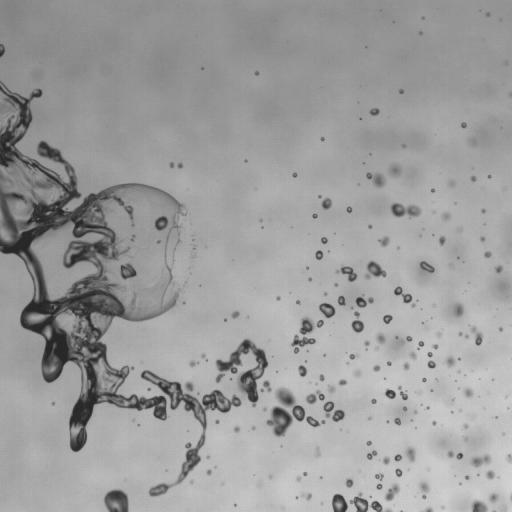droplet: (103, 488, 128, 511), (322, 400, 345, 422), (364, 260, 386, 279), (335, 264, 357, 282), (383, 482, 400, 501), (366, 172, 386, 188), (350, 311, 364, 333), (469, 453, 491, 467), (304, 389, 324, 404), (318, 302, 335, 319), (355, 294, 374, 307), (442, 355, 461, 368), (418, 481, 430, 499), (470, 499, 488, 511), (388, 162, 401, 178), (405, 445, 416, 462), (419, 261, 434, 273), (453, 302, 464, 317), (321, 197, 332, 210), (383, 388, 396, 399), (377, 236, 389, 247), (485, 470, 499, 479), (366, 449, 377, 460), (8, 82, 19, 93), (27, 99, 38, 110), (14, 140, 25, 151), (28, 149, 39, 160), (392, 153, 403, 164), (40, 156, 51, 167), (52, 162, 63, 173), (378, 165, 389, 176), (78, 186, 89, 197), (65, 200, 76, 211), (1, 231, 12, 242), (178, 242, 189, 253), (486, 256, 497, 267), (354, 264, 365, 275), (310, 310, 321, 321), (379, 323, 390, 334), (35, 336, 46, 347), (228, 339, 239, 350), (352, 342, 363, 353), (358, 350, 369, 361), (294, 352, 305, 363), (109, 358, 120, 369), (63, 360, 74, 371), (262, 368, 273, 379), (128, 369, 139, 380), (459, 377, 470, 388), (118, 385, 129, 396), (421, 392, 432, 403), (294, 394, 305, 405), (303, 404, 314, 415), (205, 408, 216, 419), (313, 409, 324, 420), (381, 477, 392, 488), (486, 479, 497, 490), (342, 489, 353, 500), (374, 491, 385, 502), (382, 314, 393, 324), (463, 387, 473, 398), (444, 397, 455, 407), (298, 365, 307, 377), (379, 456, 391, 465), (441, 211, 451, 221), (488, 492, 498, 502), (337, 295, 346, 306), (427, 359, 436, 369), (327, 384, 336, 394), (344, 477, 353, 487), (467, 138, 476, 147), (352, 368, 361, 377), (47, 139, 56, 148), (399, 166, 408, 175), (382, 172, 391, 181), (476, 172, 485, 181), (60, 174, 69, 183), (400, 198, 409, 207), (314, 204, 323, 213), (447, 217, 456, 226), (345, 296, 354, 305), (28, 330, 37, 339), (384, 333, 393, 342), (422, 343, 431, 352), (393, 359, 402, 368), (210, 366, 219, 375), (269, 381, 278, 390), (153, 387, 162, 396), (143, 390, 152, 399), (223, 390, 232, 399), (455, 390, 464, 399), (272, 398, 281, 407), (314, 399, 323, 408), (63, 408, 72, 417), (263, 410, 272, 419), (84, 421, 93, 430), (475, 448, 484, 457), (388, 459, 397, 468), (396, 459, 405, 468), (479, 463, 488, 472), (467, 465, 476, 474), (480, 495, 489, 504), (380, 499, 389, 508), (419, 499, 428, 508), (484, 500, 493, 509), (315, 250, 323, 260), (438, 235, 445, 246), (314, 446, 321, 457), (447, 179, 456, 187), (494, 265, 503, 273), (338, 378, 347, 386), (374, 473, 383, 481), (369, 108, 379, 115), (363, 340, 370, 350), (345, 505, 356, 511), (231, 310, 239, 318), (402, 362, 410, 370), (394, 417, 402, 425), (395, 468, 402, 477), (349, 353, 359, 359), (505, 453, 511, 463), (435, 330, 442, 338), (372, 364, 380, 371), (233, 425, 240, 433), (447, 450, 454, 458), (456, 452, 463, 460), (394, 454, 402, 461), (499, 504, 507, 511), (414, 389, 423, 395), (484, 251, 491, 258), (30, 116, 37, 123), (27, 123, 34, 130), (60, 151, 67, 158), (436, 207, 443, 214), (385, 208, 392, 215), (402, 212, 409, 219), (434, 212, 441, 219), (386, 241, 393, 248), (318, 243, 325, 250), (9, 252, 16, 259), (305, 269, 312, 276), (23, 297, 30, 304), (331, 300, 338, 307), (448, 305, 455, 312), (462, 305, 469, 312), (317, 312, 324, 319), (112, 315, 119, 322), (310, 317, 317, 324), (476, 325, 483, 332), (462, 326, 469, 333), (468, 334, 475, 341), (98, 336, 105, 343), (369, 338, 376, 345), (411, 339, 418, 346), (255, 342, 262, 349), (378, 342, 385, 349), (230, 344, 237, 351), (298, 345, 305, 352), (104, 349, 111, 356), (264, 353, 271, 360), (192, 354, 199, 361), (222, 355, 229, 362), (406, 357, 413, 364), (378, 360, 385, 367), (453, 360, 460, 367), (292, 368, 299, 375), (224, 369, 231, 376), (167, 375, 174, 382), (255, 378, 262, 385), (331, 379, 338, 386), (144, 380, 151, 387), (467, 382, 474, 389), (214, 383, 221, 390), (335, 384, 342, 391), (180, 386, 187, 393), (308, 387, 315, 394), (471, 387, 478, 394), (189, 389, 196, 396), (406, 390, 413, 397), (394, 393, 401, 400), (70, 396, 77, 403), (92, 403, 99, 410), (417, 406, 424, 413), (405, 408, 412, 415), (325, 416, 332, 423), (266, 424, 273, 431), (462, 428, 469, 435), (85, 435, 92, 442), (276, 435, 283, 442), (63, 439, 70, 446), (409, 441, 416, 448), (80, 445, 87, 452), (365, 445, 372, 452), (196, 449, 203, 456), (413, 451, 420, 458), (489, 453, 496, 460), (401, 454, 408, 461), (394, 460, 401, 467), (192, 464, 199, 471), (174, 466, 181, 473), (187, 470, 194, 477), (392, 475, 399, 482), (163, 477, 170, 484), (427, 481, 434, 488), (112, 483, 119, 490), (121, 486, 128, 493), (380, 487, 387, 494), (486, 487, 493, 494), (392, 492, 399, 499), (298, 496, 305, 503), (506, 396, 511, 405), (126, 506, 135, 511), (176, 162, 183, 168), (470, 175, 476, 182), (346, 206, 352, 213), (321, 237, 327, 244), (448, 262, 454, 269), (318, 374, 324, 381), (461, 423, 468, 429), (295, 475, 301, 482), (456, 227, 462, 233), (462, 436, 468, 442), (206, 469, 212, 475), (376, 483, 382, 489), (169, 161, 174, 168), (391, 506, 398, 511), (461, 122, 466, 128), (312, 213, 318, 218), (480, 236, 485, 242), (432, 344, 438, 349), (427, 352, 433, 357), (371, 398, 376, 404), (464, 474, 470, 479), (101, 507, 108, 511), (231, 507, 238, 511), (367, 507, 374, 511), (432, 507, 439, 511), (465, 507, 472, 511), (254, 70, 259, 75), (292, 172, 297, 177), (430, 188, 435, 193), (481, 208, 486, 213), (498, 326, 503, 331), (464, 334, 469, 339), (402, 406, 407, 411), (366, 440, 371, 445), (480, 10, 485, 15), (2, 51, 7, 56), (400, 84, 405, 89), (40, 92, 45, 97), (24, 93, 29, 98), (32, 96, 37, 101), (372, 103, 377, 108), (372, 114, 377, 119), (461, 117, 466, 122), (465, 123, 470, 128), (34, 139, 39, 144), (166, 157, 171, 162), (181, 160, 186, 165), (173, 161, 178, 166), (370, 170, 375, 175), (470, 170, 475, 175), (361, 173, 366, 178), (475, 176, 480, 181), (122, 178, 127, 183), (137, 178, 142, 183), (367, 178, 372, 183), (466, 178, 471, 183), (118, 179, 123, 184), (142, 179, 147, 184), (146, 180, 151, 185), (155, 183, 160, 188), (162, 186, 167, 191), (93, 189, 98, 194), (170, 191, 175, 196), (328, 194, 333, 199), (174, 195, 179, 200), (177, 198, 182, 203), (317, 198, 322, 203), (394, 198, 399, 203), (327, 206, 332, 211), (441, 207, 446, 212), (410, 215, 415, 220), (178, 234, 183, 239), (378, 234, 383, 239), (475, 237, 480, 242), (434, 239, 439, 244), (443, 240, 448, 245), (375, 241, 380, 246), (484, 246, 489, 251), (174, 249, 179, 254), (321, 249, 326, 254), (479, 250, 484, 255), (490, 250, 495, 255), (483, 256, 488, 261), (486, 256, 491, 261), (364, 259, 369, 264), (494, 261, 499, 266), (336, 264, 341, 269), (415, 264, 420, 269), (380, 265, 385, 270), (490, 268, 495, 273), (170, 269, 175, 274), (422, 269, 427, 274), (499, 269, 504, 274), (343, 273, 348, 278), (370, 274, 375, 279), (377, 274, 382, 279), (352, 279, 357, 284), (172, 286, 177, 291), (389, 287, 394, 292), (401, 289, 406, 294), (356, 292, 361, 297), (397, 294, 402, 299), (362, 295, 367, 300), (410, 298, 415, 303), (351, 300, 356, 305), (365, 302, 370, 307), (354, 305, 359, 310), (231, 306, 236, 311), (16, 310, 21, 315), (387, 310, 392, 315), (160, 312, 165, 317), (226, 314, 231, 319), (329, 315, 334, 320), (351, 315, 356, 320), (357, 315, 362, 320), (152, 316, 157, 321), (234, 316, 239, 321), (15, 317, 20, 322), (145, 318, 150, 323), (142, 319, 147, 324), (130, 320, 135, 325), (136, 320, 141, 325), (470, 320, 475, 325), (362, 321, 367, 326), (347, 325, 352, 330), (360, 329, 365, 334), (441, 330, 446, 335), (297, 334, 302, 339), (459, 335, 464, 340), (481, 336, 486, 341), (288, 337, 293, 342), (480, 340, 485, 345), (304, 343, 309, 348), (360, 343, 365, 348), (429, 347, 434, 352), (347, 349, 352, 354), (414, 349, 419, 354), (452, 354, 457, 359), (429, 355, 434, 360), (425, 356, 430, 361), (199, 358, 204, 363), (348, 358, 353, 363), (184, 359, 189, 364), (399, 360, 404, 365), (184, 362, 189, 367), (302, 362, 307, 367), (369, 362, 374, 367), (398, 364, 403, 369), (408, 364, 413, 369), (263, 366, 268, 371), (151, 368, 156, 373), (136, 370, 141, 375), (305, 370, 310, 375), (374, 370, 379, 375), (338, 374, 343, 379), (343, 375, 348, 380), (124, 376, 129, 381), (314, 376, 319, 381), (175, 377, 180, 382), (40, 378, 45, 383), (53, 378, 58, 383), (455, 381, 460, 386), (268, 382, 273, 387), (340, 384, 345, 389), (400, 386, 405, 391), (381, 387, 386, 392), (115, 389, 120, 394), (206, 389, 211, 394), (394, 389, 399, 394), (256, 390, 261, 395), (124, 392, 129, 397), (472, 392, 477, 397), (136, 393, 141, 398), (383, 395, 388, 400), (464, 396, 469, 401), (197, 397, 202, 402), (323, 397, 328, 402), (255, 399, 260, 404), (320, 399, 325, 404), (179, 400, 184, 405), (247, 400, 252, 405), (110, 403, 115, 408), (230, 404, 235, 409), (332, 405, 337, 410), (132, 407, 137, 412), (188, 409, 193, 414), (225, 410, 230, 415), (304, 411, 309, 416), (410, 413, 415, 418), (342, 415, 347, 420), (154, 417, 159, 422), (316, 417, 321, 422), (399, 417, 404, 422), (301, 418, 306, 423), (337, 419, 342, 424), (389, 419, 394, 424), (466, 420, 471, 425), (318, 423, 323, 428), (458, 423, 463, 428), (197, 424, 202, 429), (246, 424, 251, 429), (307, 424, 312, 429), (228, 425, 233, 430), (314, 425, 319, 430), (238, 428, 243, 433), (232, 431, 237, 436), (203, 438, 208, 443), (182, 439, 187, 444), (190, 443, 195, 448), (66, 446, 71, 451), (182, 447, 187, 452), (310, 448, 315, 453), (319, 448, 324, 453), (442, 450, 447, 455), (452, 450, 457, 455), (181, 456, 186, 461), (389, 456, 394, 461), (505, 461, 510, 466), (208, 464, 213, 469), (210, 468, 215, 473), (493, 470, 498, 475), (391, 472, 396, 477), (346, 473, 351, 478), (205, 474, 210, 479), (291, 474, 296, 479), (491, 476, 496, 481), (460, 477, 465, 482), (374, 478, 379, 483), (352, 479, 357, 484), (152, 481, 157, 486), (144, 486, 149, 491), (166, 487, 171, 492), (304, 488, 309, 493), (336, 489, 341, 494), (493, 489, 498, 494), (295, 490, 300, 495), (418, 490, 423, 495), (425, 492, 430, 497), (158, 493, 163, 498), (361, 494, 366, 499), (152, 495, 157, 500), (310, 495, 315, 500), (327, 496, 332, 501), (367, 498, 372, 503), (506, 506, 511, 511), (398, 89, 404, 93), (296, 299, 300, 305), (458, 331, 462, 337), (0, 212, 3, 219), (0, 250, 3, 257), (485, 12, 490, 16), (401, 144, 406, 148), (307, 277, 312, 281), (276, 295, 280, 300), (180, 301, 185, 305), (386, 361, 391, 365), (422, 377, 426, 382), (51, 401, 55, 406), (413, 409, 417, 414), (432, 420, 436, 425), (251, 425, 255, 430), (302, 472, 307, 476), (268, 474, 272, 479), (189, 479, 193, 484), (440, 505, 445, 509), (508, 91, 511, 97), (320, 137, 324, 141), (487, 174, 491, 178), (368, 224, 372, 228), (334, 282, 338, 286), (323, 292, 327, 296), (456, 369, 460, 373), (147, 387, 151, 391), (368, 416, 372, 420), (215, 419, 219, 423), (206, 455, 210, 459), (426, 467, 430, 471), (357, 469, 361, 473), (424, 406, 429, 409), (493, 416, 498, 419), (508, 394, 511, 399), (508, 449, 511, 454), (328, 508, 333, 511), (419, 31, 422, 35), (318, 194, 321, 198), (259, 218, 262, 222), (432, 304, 436, 307), (224, 318, 227, 322), (315, 382, 319, 385), (458, 408, 461, 412), (502, 432, 505, 436), (476, 472, 479, 476), (320, 501, 323, 505), (0, 90, 2, 95), (421, 16, 424, 19), (244, 159, 247, 162), (432, 210, 435, 213), (396, 246, 399, 249), (306, 266, 309, 269), (350, 306, 353, 309), (323, 353, 326, 356), (346, 361, 349, 364), (275, 370, 278, 373), (229, 377, 232, 380), (435, 378, 438, 381), (454, 379, 457, 382), (491, 378, 494, 381), (430, 388, 433, 391), (450, 410, 453, 413), (132, 418, 135, 421), (386, 420, 389, 423), (414, 426, 417, 429), (214, 465, 217, 468), (221, 482, 224, 485), (458, 482, 461, 485), (233, 503, 236, 506), (489, 12, 492, 15), (421, 19, 424, 22), (420, 28, 423, 31), (202, 64, 205, 67), (197, 66, 200, 69), (201, 69, 204, 72), (251, 71, 254, 74), (258, 71, 261, 74), (255, 74, 258, 77), (4, 83, 7, 86), (7, 86, 10, 89), (399, 93, 402, 96), (359, 114, 362, 117), (356, 115, 359, 118), (358, 119, 361, 122), (459, 126, 462, 129), (320, 133, 323, 136), (323, 135, 326, 138), (317, 138, 320, 141), (320, 140, 323, 143), (404, 141, 407, 144), (398, 145, 401, 148), (241, 157, 244, 160), (361, 158, 364, 161), (247, 159, 250, 162), (244, 162, 247, 165), (166, 163, 169, 166), (360, 163, 363, 166), (179, 167, 182, 170), (486, 171, 489, 174), (296, 172, 299, 175), (490, 173, 493, 176), (484, 174, 487, 177), (291, 176, 294, 179), (473, 180, 476, 183), (153, 184, 156, 187), (430, 185, 433, 188), (427, 188, 430, 191), (434, 188, 437, 191), (317, 191, 320, 194), (429, 191, 432, 194), (432, 191, 435, 194), (314, 194, 317, 197), (483, 206, 486, 209), (351, 208, 354, 211), (313, 210, 316, 213), (478, 210, 481, 213), (484, 210, 487, 213), (345, 211, 348, 214), (349, 211, 352, 214), (186, 212, 189, 215), (309, 212, 312, 215), (309, 215, 312, 218), (314, 217, 317, 220), (368, 221, 371, 224), (177, 222, 180, 225), (260, 222, 263, 225), (364, 224, 367, 227), (371, 224, 374, 227), (263, 225, 266, 228), (431, 230, 434, 233), (428, 233, 431, 236), (480, 233, 483, 236), (320, 234, 323, 237), (192, 235, 195, 238), (325, 235, 328, 238), (484, 236, 487, 239), (188, 237, 191, 240), (191, 240, 194, 243), (326, 240, 329, 243), (178, 241, 181, 244), (190, 244, 193, 247), (175, 246, 178, 249), (399, 246, 402, 249), (192, 249, 195, 252), (312, 253, 315, 256), (457, 253, 460, 256), (173, 256, 176, 259), (453, 256, 456, 259), (459, 256, 462, 259), (192, 257, 195, 260), (320, 257, 323, 260), (419, 258, 422, 261), (456, 258, 459, 261), (173, 260, 176, 263), (427, 261, 430, 264), (343, 263, 346, 266), (349, 264, 352, 267), (302, 266, 305, 269), (308, 266, 311, 269), (188, 268, 191, 271), (433, 269, 436, 272), (25, 270, 28, 273), (28, 276, 31, 279), (311, 276, 314, 279), (183, 277, 186, 280), (305, 279, 308, 282), (310, 279, 313, 282), (184, 283, 187, 286), (179, 284, 182, 287), (332, 285, 335, 288), (183, 287, 186, 290), (325, 289, 328, 292), (320, 291, 323, 294), (178, 292, 181, 295), (339, 292, 342, 295), (279, 295, 282, 298), (273, 297, 276, 300), (184, 299, 187, 302), (277, 299, 280, 302), (344, 299, 347, 302), (372, 299, 375, 302), (175, 300, 178, 303), (292, 300, 295, 303), (299, 300, 302, 303), (295, 303, 298, 306), (383, 312, 386, 315), (426, 316, 429, 319), (220, 318, 223, 321), (421, 318, 424, 321), (389, 319, 392, 322), (223, 321, 226, 324), (382, 321, 385, 324), (423, 321, 426, 324), (419, 323, 422, 326), (320, 325, 323, 328), (502, 327, 505, 330), (496, 329, 499, 332), (455, 332, 458, 335), (409, 333, 412, 336), (461, 333, 464, 336), (314, 337, 317, 340), (395, 338, 398, 341), (432, 341, 435, 344), (476, 344, 479, 347), (366, 345, 369, 348), (296, 351, 299, 354), (320, 351, 323, 354), (325, 353, 328, 356), (424, 353, 427, 356), (320, 355, 323, 358), (459, 355, 462, 358), (388, 358, 391, 361), (383, 361, 386, 364), (123, 362, 126, 365), (390, 362, 393, 365), (424, 362, 427, 365), (194, 363, 197, 366), (343, 363, 346, 366), (127, 364, 130, 367), (385, 364, 388, 367), (434, 364, 437, 367), (428, 367, 431, 370), (277, 370, 280, 373), (460, 372, 463, 375), (384, 374, 387, 377), (422, 374, 425, 377), (323, 375, 326, 378), (380, 377, 383, 380), (419, 377, 422, 380), (451, 377, 454, 380), (433, 379, 436, 382), (422, 381, 425, 384), (432, 387, 435, 390), (320, 390, 323, 393), (430, 391, 433, 394), (407, 395, 410, 398), (450, 395, 453, 398), (369, 396, 372, 399), (374, 396, 377, 399), (453, 398, 456, 401), (49, 399, 52, 402), (403, 399, 406, 402), (368, 400, 371, 403), (375, 400, 378, 403), (417, 401, 420, 404), (54, 402, 57, 405), (372, 403, 375, 406), (423, 404, 426, 407), (406, 406, 409, 409), (451, 407, 454, 410), (424, 408, 427, 411), (427, 408, 430, 411), (448, 412, 451, 415), (494, 412, 497, 415), (366, 413, 369, 416), (395, 414, 398, 417), (364, 416, 367, 419), (496, 417, 499, 420), (434, 418, 437, 421), (367, 419, 370, 422), (136, 420, 139, 423), (218, 420, 221, 423), (332, 420, 335, 423), (383, 420, 386, 423), (409, 421, 412, 424), (252, 422, 255, 425), (429, 422, 432, 425), (435, 422, 438, 425), (139, 423, 142, 426), (215, 423, 218, 426), (394, 423, 397, 426), (254, 426, 257, 429), (249, 429, 252, 432), (366, 437, 369, 440), (370, 439, 373, 442), (363, 442, 366, 445), (461, 451, 464, 454), (393, 452, 396, 455), (209, 455, 212, 458), (364, 456, 367, 459), (303, 468, 306, 471), (392, 468, 395, 471), (306, 471, 309, 474), (401, 472, 404, 475), (464, 472, 467, 475), (300, 473, 303, 476), (316, 475, 319, 478), (322, 475, 325, 478), (319, 478, 322, 481), (343, 479, 346, 482), (296, 481, 299, 484), (455, 481, 458, 484), (373, 483, 376, 486), (457, 484, 460, 487), (146, 492, 149, 495), (354, 493, 357, 496), (292, 495, 295, 498), (421, 498, 424, 501), (235, 501, 238, 504), (230, 503, 233, 506), (235, 505, 238, 508), (397, 507, 400, 510), (401, 507, 404, 510), (201, 67, 204, 69), (359, 117, 362, 119), (362, 162, 365, 164), (454, 202, 456, 205), (419, 234, 421, 237), (192, 238, 194, 241), (457, 256, 459, 259), (247, 315, 249, 318), (430, 316, 432, 319), (306, 350, 309, 352), (304, 360, 306, 363), (308, 381, 311, 383), (457, 387, 460, 389), (197, 392, 199, 395), (420, 403, 422, 406), (410, 419, 413, 421), (137, 424, 140, 426), (407, 468, 409, 471), (319, 476, 322, 478), (369, 495, 371, 498), (509, 406, 511, 409), (441, 509, 444, 511), (369, 153, 371, 155), (357, 183, 359, 185), (483, 223, 485, 225), (261, 226, 263, 228), (422, 228, 424, 230), (333, 232, 335, 234), (327, 250, 329, 252), (189, 272, 191, 274), (199, 284, 201, 286), (289, 291, 291, 293), (416, 299, 418, 301), (420, 308, 422, 310), (271, 355, 273, 357), (478, 378, 480, 380), (507, 407, 509, 409), (280, 445, 282, 447), (165, 469, 167, 471), (0, 40, 1, 43), (432, 234, 434, 235), (464, 374, 466, 375), (366, 46, 367, 47)
ligament: (390, 202, 421, 219), (394, 285, 415, 307), (468, 324, 483, 345), (409, 341, 424, 361), (189, 352, 207, 367), (373, 332, 385, 351), (397, 384, 408, 400), (395, 336, 412, 345), (295, 492, 312, 500), (189, 244, 196, 258), (419, 506, 433, 511), (0, 44, 5, 57), (421, 321, 428, 330), (504, 394, 510, 399), (509, 492, 511, 502), (383, 377, 386, 379), (399, 510, 404, 511), (491, 510, 496, 511), (190, 222, 191, 225)
